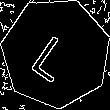L_NE: (29, 24, 83, 82)
